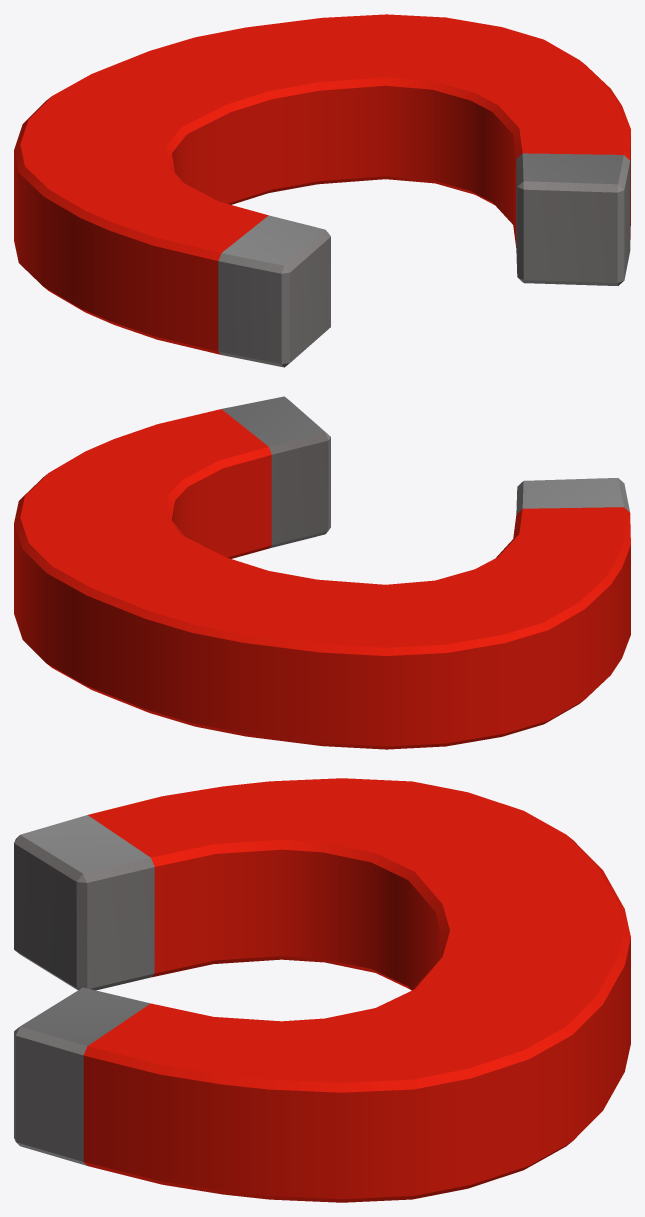
Rendered from magnet.fbx.
The picture shows the model from 3 angles, top to bottom: view 1: azimuth 30°, elevation 25°; view 2: azimuth 150°, elevation 25°; view 3: azimuth 270°, elevation 25°; orthographic projection. The views are drawn at different scales.
Parts seen in each view (by area): view 1: magnet; view 2: magnet; view 3: magnet.
Boxes of the visible parts, bbox=[...] form: magnet: bbox=[14, 14, 630, 367]; magnet: bbox=[14, 396, 630, 749]; magnet: bbox=[14, 778, 630, 1202].
Bounding box in the file's own units: 134 × 24.11 × 113.
1 material, 1 textured.
